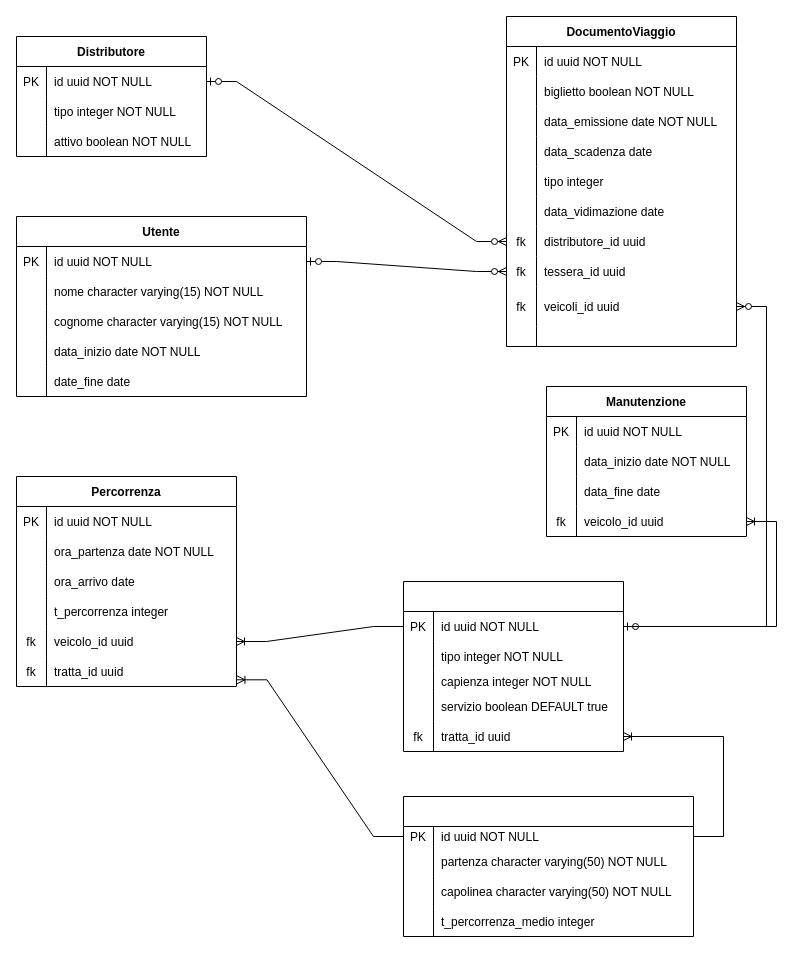
Image size: 793x953. Some labels were removed from this diagram. Here are the shapes that lost their labels. From the top down, the box of each, then its label:
(402, 580, 624, 752): Veicolo
(402, 796, 694, 936): Tratta
